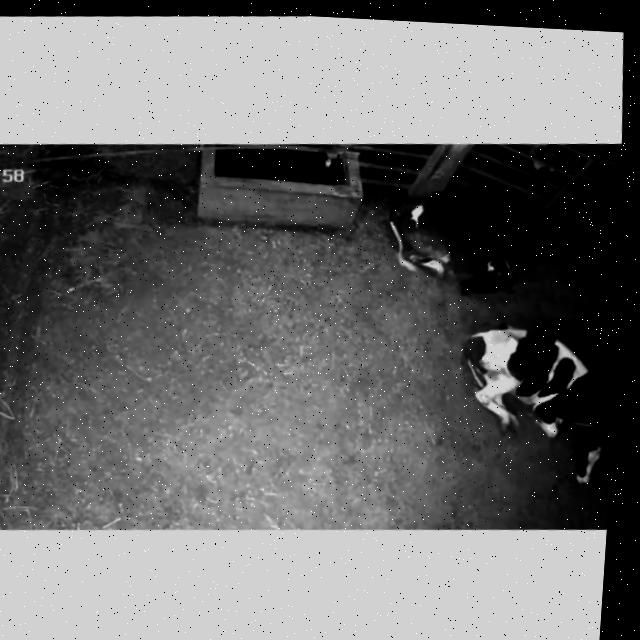lay: (445, 297, 622, 503), (365, 175, 565, 306)
